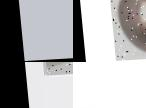ironball: (108, 0, 145, 60)
